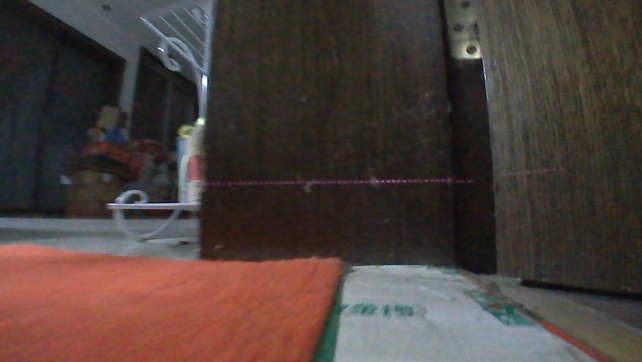blanket: (0, 240, 346, 361)
